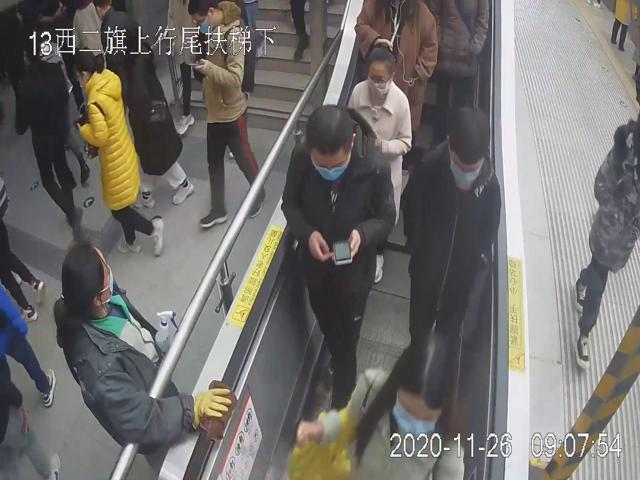person: (51, 244, 232, 448), (280, 104, 396, 412), (398, 101, 502, 348), (72, 44, 164, 259), (344, 40, 412, 284)
